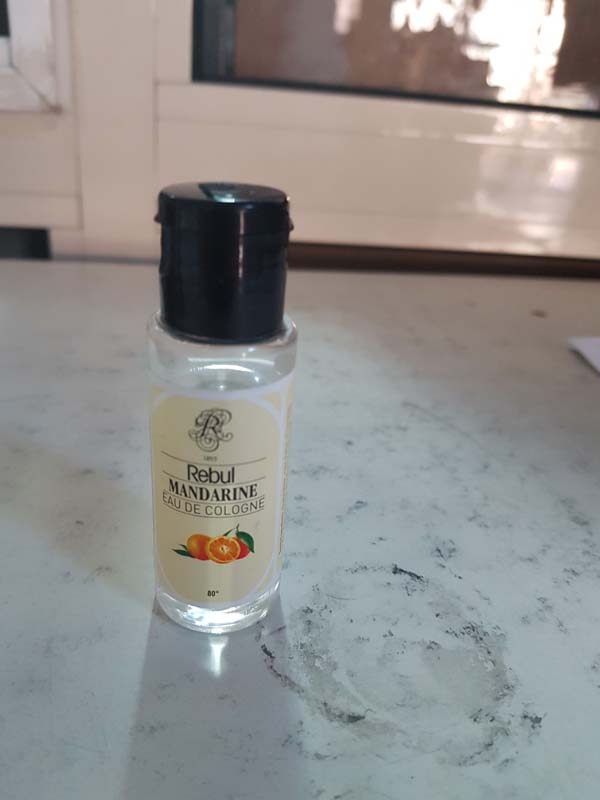redbulkolonya: (145, 175, 296, 635)
